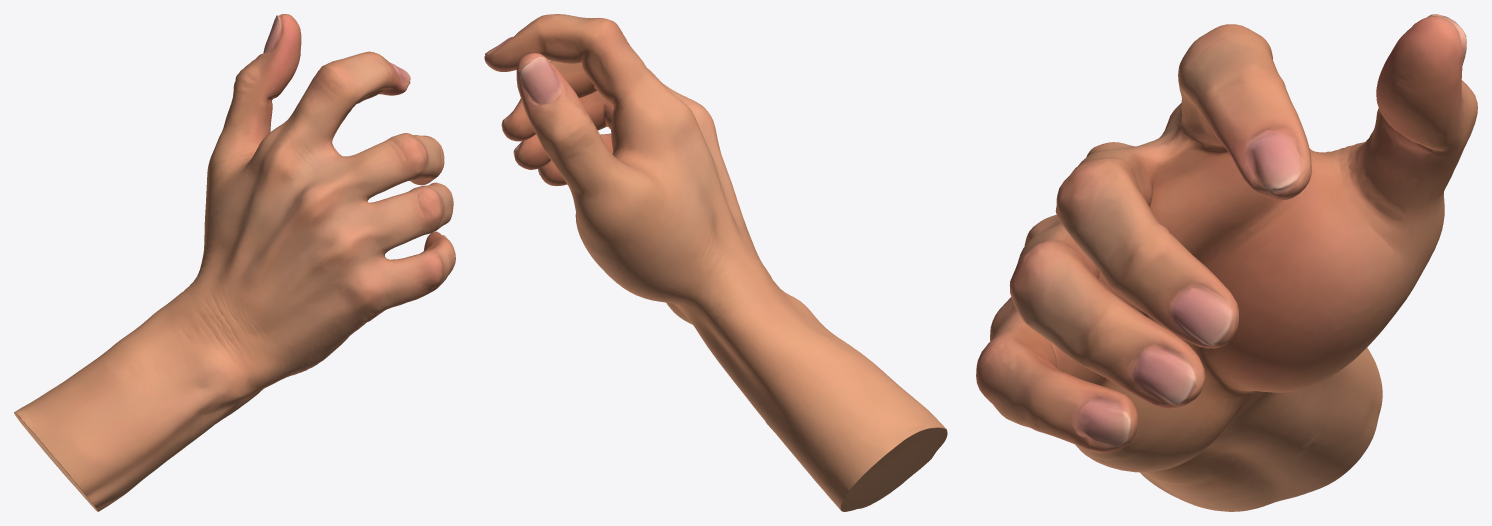
Rendered from hand-grip3.glb.
The picture shows the model from 3 angles, left to right: view 1: azimuth 30°, elevation 25°; view 2: azimuth 150°, elevation 25°; view 3: azimuth 270°, elevation 25°; orthographic projection. The views are drawn at different scales.
Parts seen in each view (by area): view 1: tripo_node_4d9c2e05-6d86-410c-aca0-1030a7407014; view 2: tripo_node_4d9c2e05-6d86-410c-aca0-1030a7407014; view 3: tripo_node_4d9c2e05-6d86-410c-aca0-1030a7407014.
Boxes of the visible parts, <box> form: tripo_node_4d9c2e05-6d86-410c-aca0-1030a7407014: <box>14,14,455,511</box>; tripo_node_4d9c2e05-6d86-410c-aca0-1030a7407014: <box>484,14,947,511</box>; tripo_node_4d9c2e05-6d86-410c-aca0-1030a7407014: <box>976,14,1477,511</box>.
Size of the model in its own units: 0.9809 by 0.9268 by 0.5855.
Materials: 1 (1 with a texture image).
